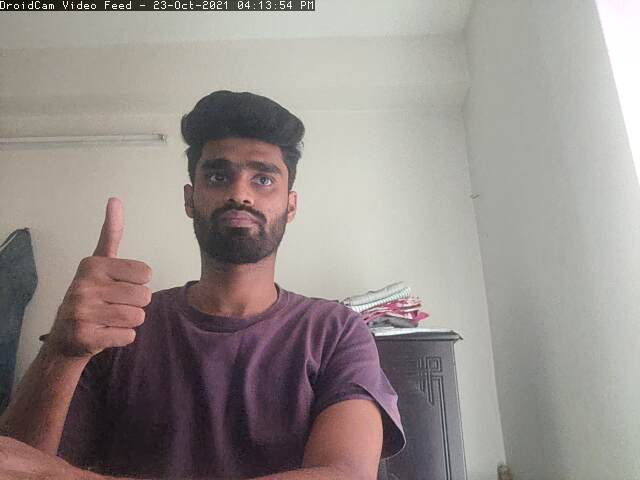ThumbsUp: (61, 191, 159, 355)
